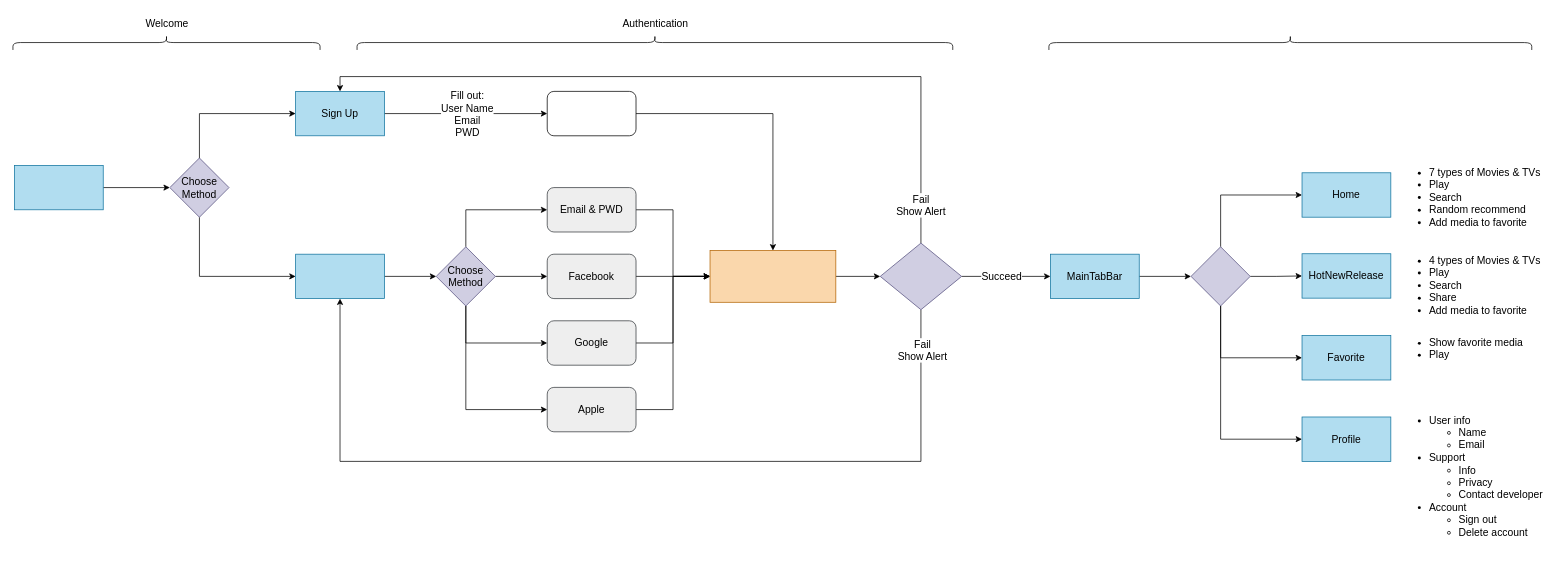
Image size: 1559x562. Some labels were removed from this diagram. The shapes that lost their labels are listed below. From the top down, each one's centre as x and y in pixels, then its label:
point (1290, 42): Functionality
point (591, 113): Create Account
point (58, 187): LandingScreen
point (339, 276): Log in
point (772, 276): 3rd party Firebase Authentication
point (920, 276): Authenticate
point (1220, 276): Choose Page
